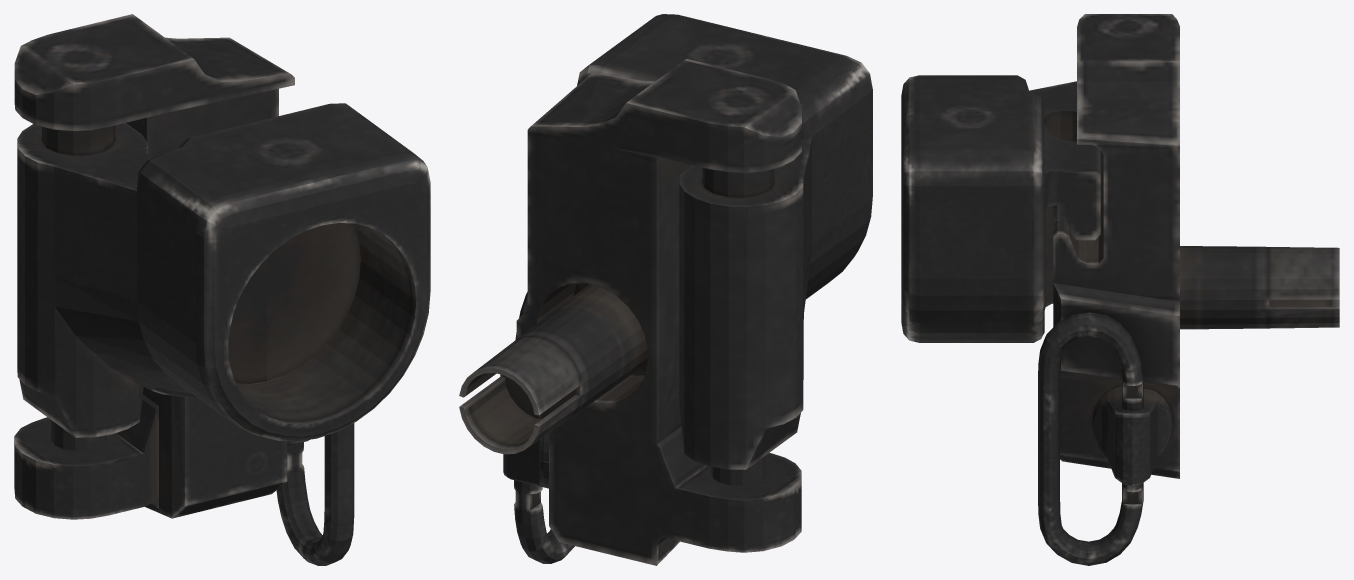
3 views of the same model, side by side, from view 1: azimuth 30°, elevation 25°; view 2: azimuth 150°, elevation 25°; view 3: azimuth 270°, elevation 25° (orthographic). The views are drawn at different scales.
Visible parts, largest first — view 1: TW_5b099bf25acfc4001637e683_PZ_Import; view 2: TW_5b099bf25acfc4001637e683_PZ_Import; view 3: TW_5b099bf25acfc4001637e683_PZ_Import.
Boxes of the visible parts, left/top/right/bottom form: TW_5b099bf25acfc4001637e683_PZ_Import: left=14, top=14, right=430, bottom=565; TW_5b099bf25acfc4001637e683_PZ_Import: left=459, top=14, right=872, bottom=565; TW_5b099bf25acfc4001637e683_PZ_Import: left=901, top=14, right=1339, bottom=565.
Size of the model in its own units: 0.0268 by 0.0415 by 0.0471.
Materials: 1 (1 with a texture image).
